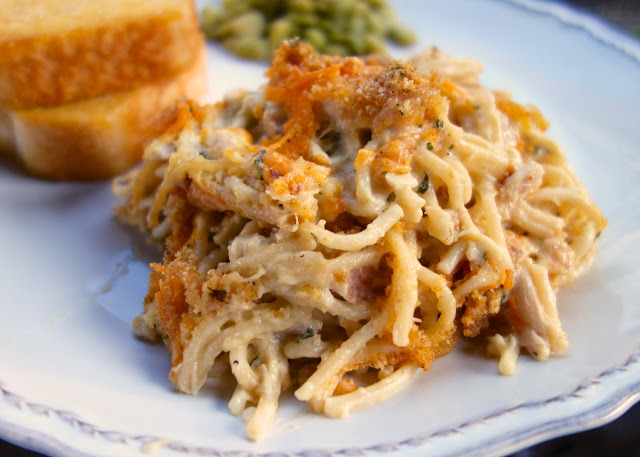slice of bread: (24, 15, 180, 149)
